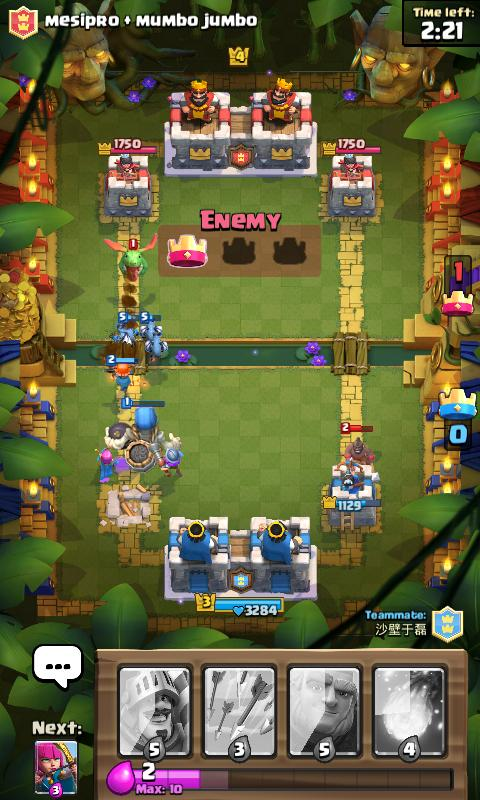ally_archer: (93, 443, 118, 480)
ally_giant_skeleton: (103, 395, 181, 471)
ally_minion: (108, 311, 139, 347), (138, 309, 163, 338), (143, 331, 167, 357)
ally_musketeer: (147, 440, 183, 479)
ally_valkyrie: (102, 353, 139, 394)
enemy_baby_dragon: (103, 231, 157, 281)
enemy_hog_rider: (337, 421, 375, 464)
